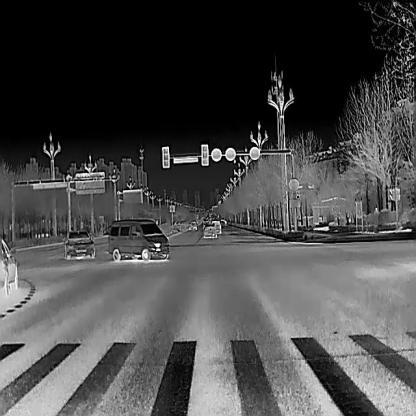car: (107, 217, 170, 260), (0, 237, 18, 296), (63, 229, 96, 260), (203, 221, 216, 237), (212, 219, 221, 234), (189, 220, 197, 229)
